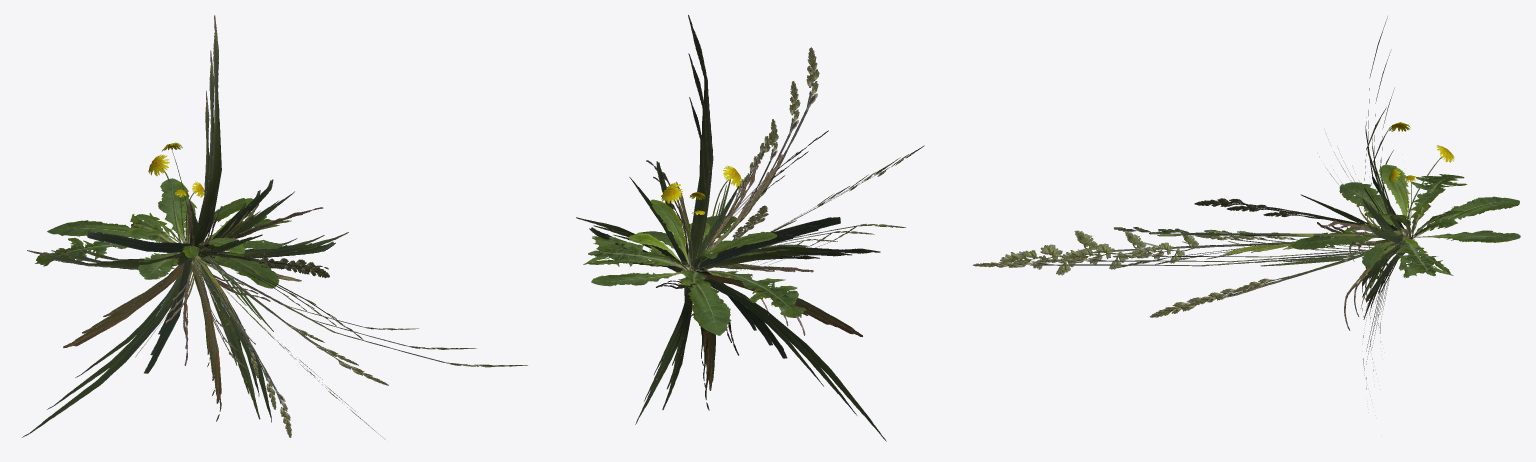
Rendered from veg_clumps.glb.
The picture shows the model from 3 angles, left to right: view 1: azimuth 30°, elevation 25°; view 2: azimuth 150°, elevation 25°; view 3: azimuth 270°, elevation 25°; orthographic projection. The views are drawn at different scales.
Visible parts, largest first — view 1: 0_5_2785131480_0, 0_1_0_383085165_0, 0_4_2785131480_0, 0_6_2785131480_0; view 2: 0_1_0_383085165_0, 0_5_2785131480_0, 0_4_2785131480_0, 0_6_2785131480_0; view 3: 0_1_0_383085165_0, 0_5_2785131480_0, 0_4_2785131480_0, 0_6_2785131480_0.
Part boxes in pixels (left/top/right/bottom): 0_5_2785131480_0: left=22, top=15, right=527, bottom=439; 0_1_0_383085165_0: left=35, top=142, right=291, bottom=288; 0_4_2785131480_0: left=47, top=50, right=476, bottom=412; 0_6_2785131480_0: left=75, top=90, right=418, bottom=379; 0_1_0_383085165_0: left=583, top=165, right=807, bottom=335; 0_5_2785131480_0: left=576, top=15, right=924, bottom=441; 0_4_2785131480_0: left=593, top=53, right=887, bottom=415; 0_6_2785131480_0: left=613, top=97, right=849, bottom=386; 0_1_0_383085165_0: left=1290, top=122, right=1520, bottom=277; 0_5_2785131480_0: left=973, top=16, right=1412, bottom=389; 0_4_2785131480_0: left=1038, top=49, right=1410, bottom=370; 0_6_2785131480_0: left=1113, top=88, right=1408, bottom=342.
Bounding box in the file's own units: 66.34 × 83.43 × 105.
2 materials, 2 textured.
